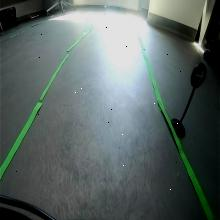right: (190, 61, 206, 89)
